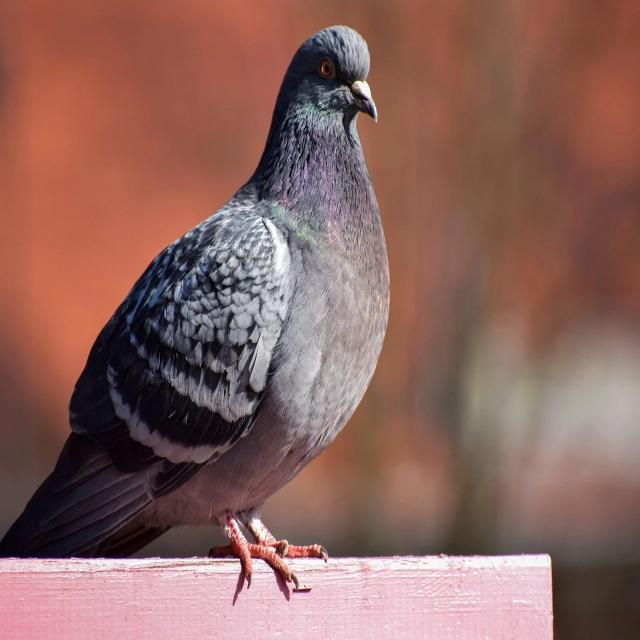pegion: (116, 27, 522, 440)
